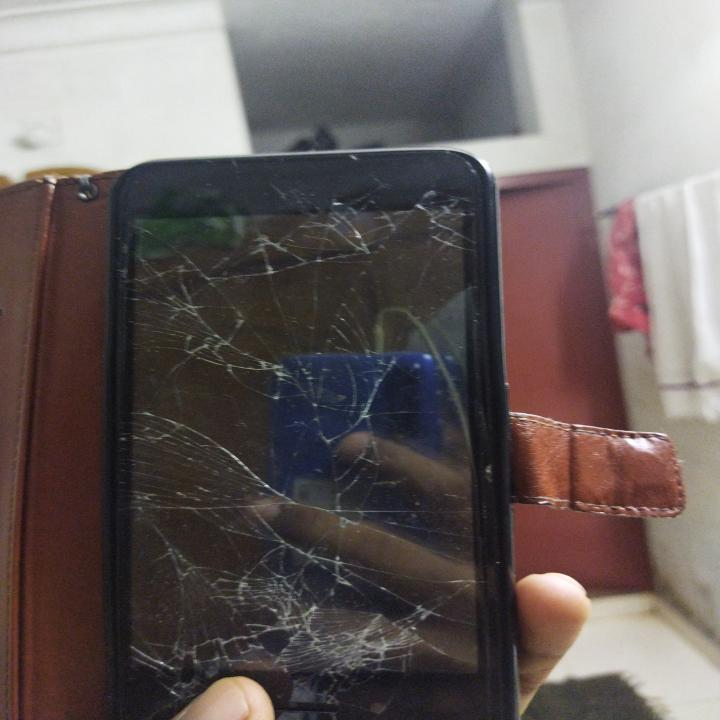Crack: (114, 153, 497, 666)
